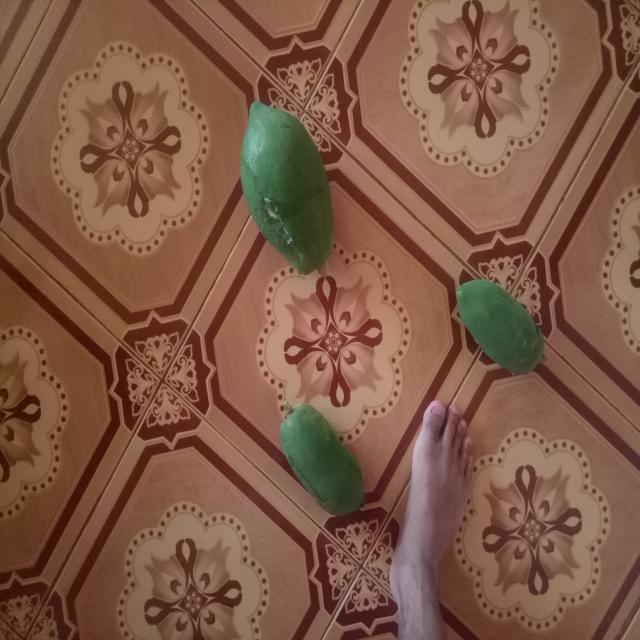Pepaya unrippen: (222, 93, 350, 277), (268, 399, 369, 520), (455, 265, 544, 385)
